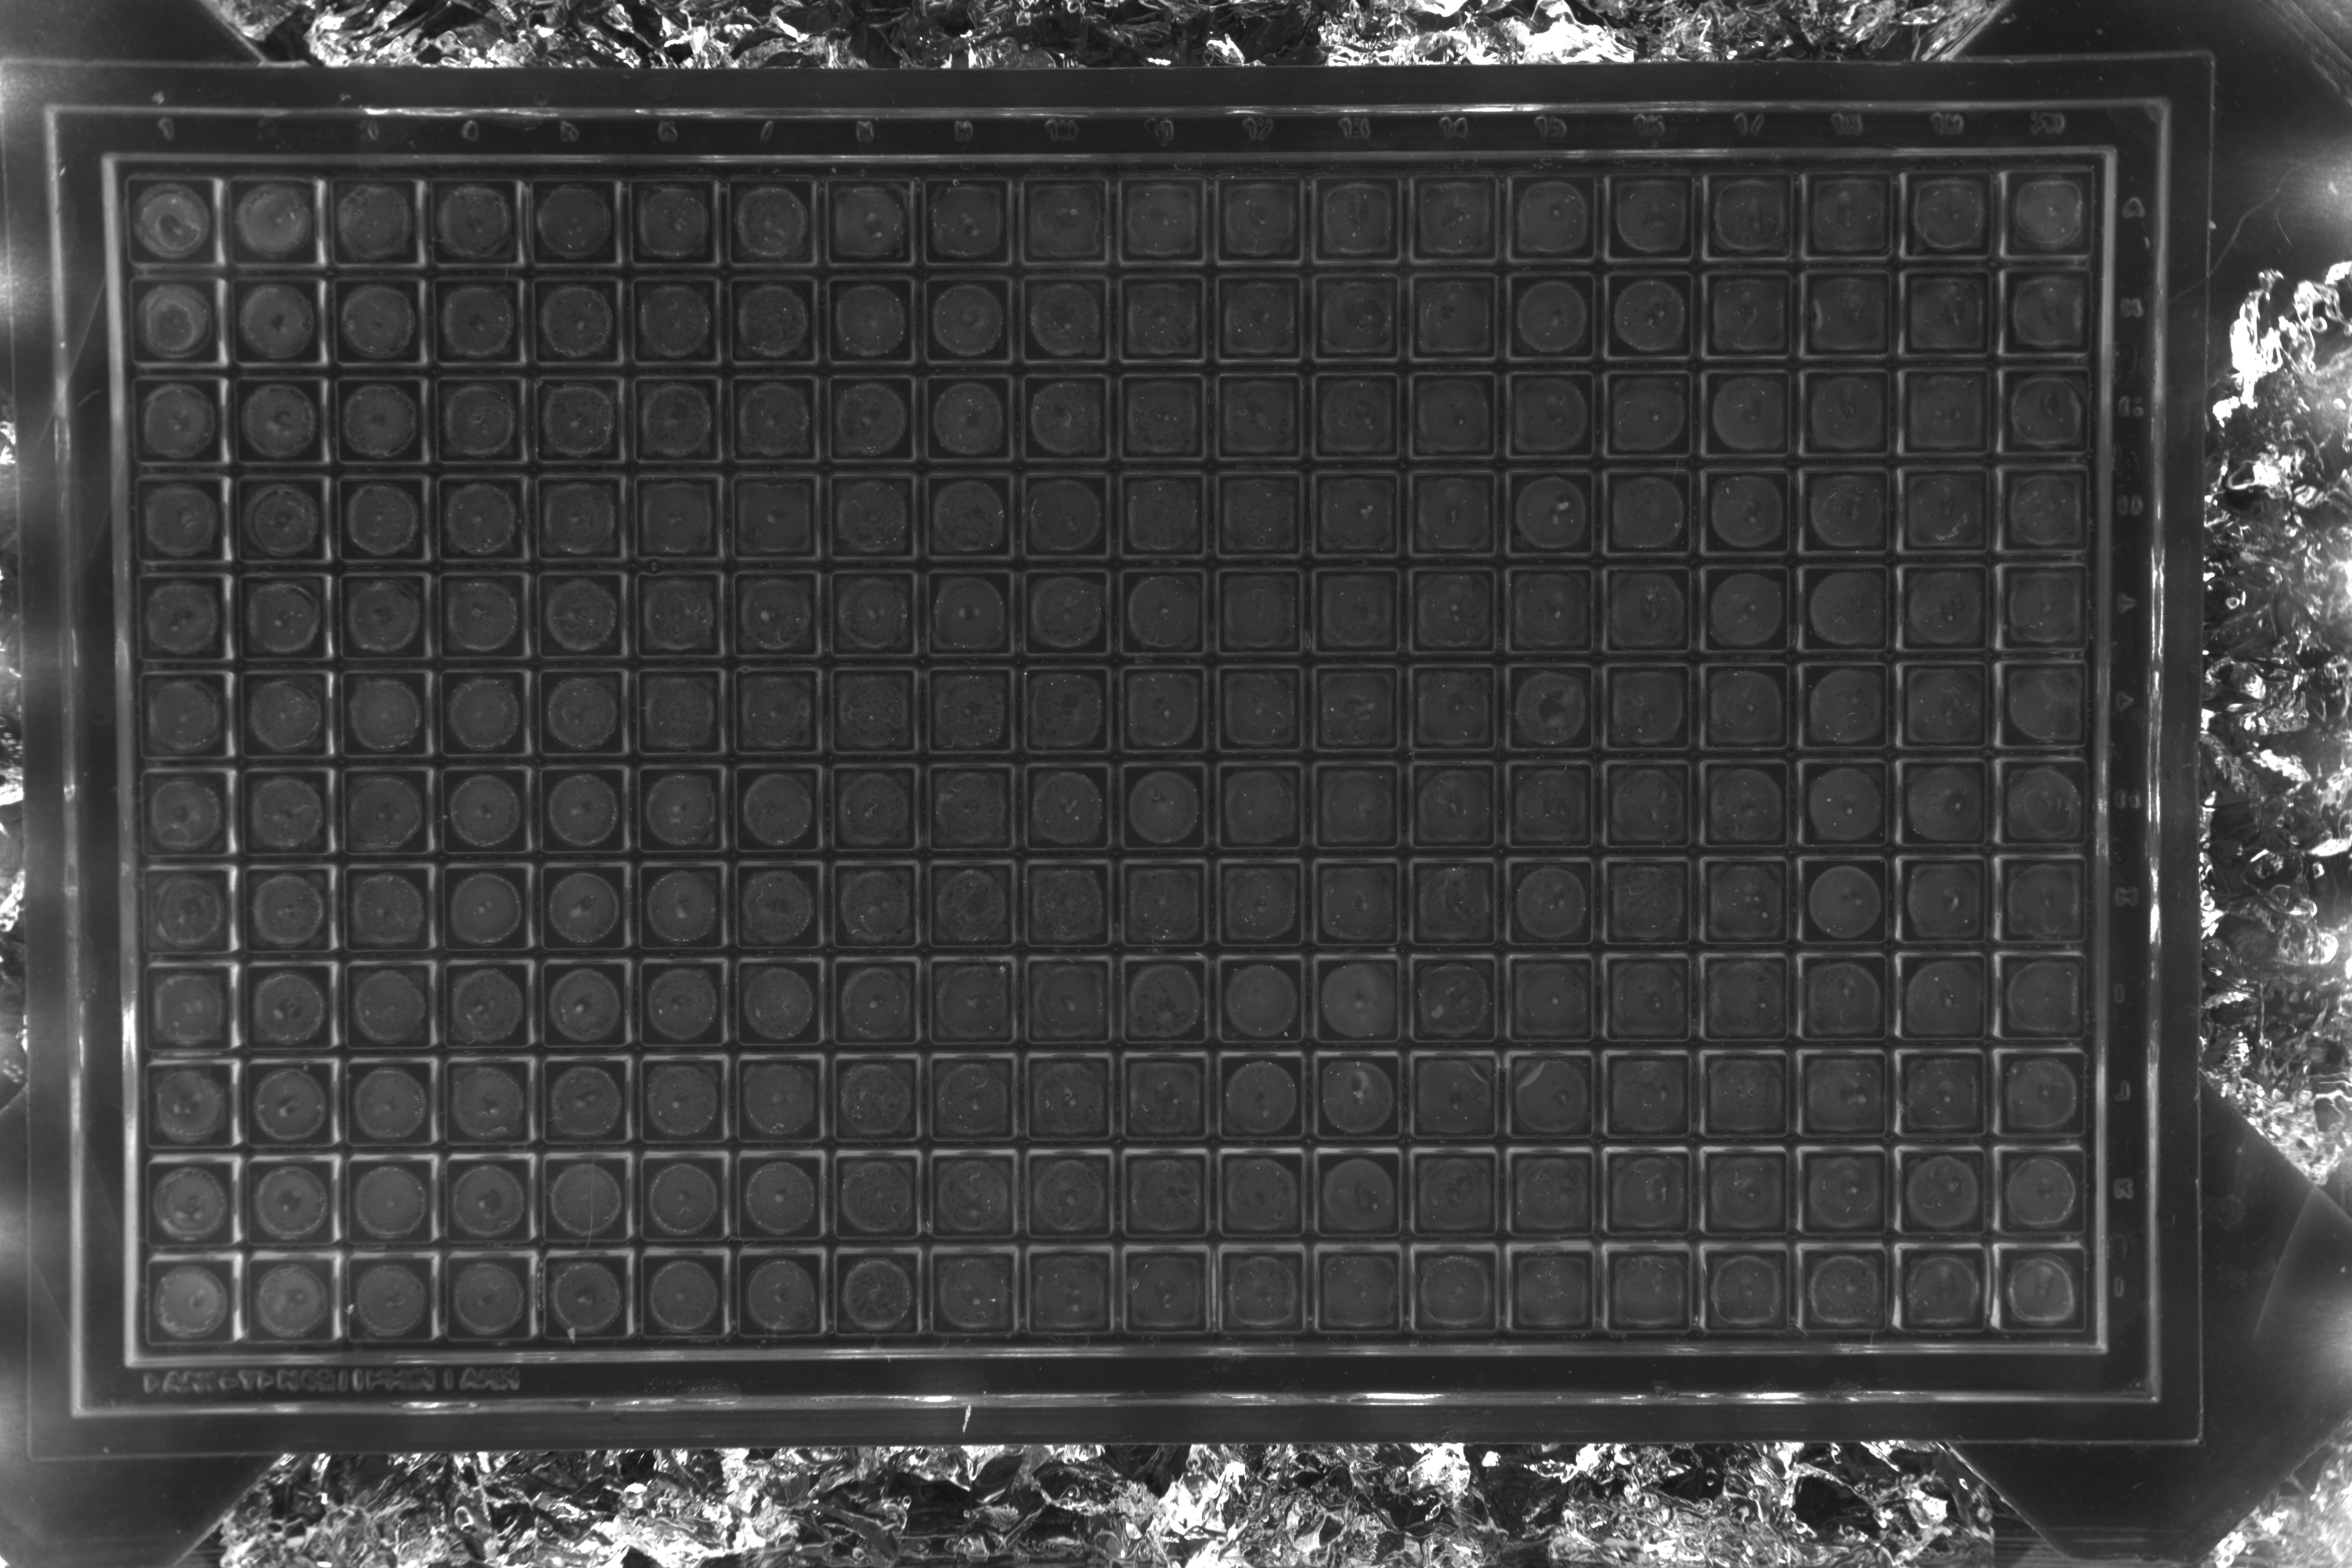WM_well: (497, 1214, 586, 1302), (789, 922, 878, 1010), (205, 1024, 292, 1111), (303, 1216, 390, 1304), (390, 238, 478, 325), (401, 926, 488, 1013), (688, 338, 775, 425), (885, 534, 973, 621), (887, 1115, 975, 1202), (1080, 1113, 1167, 1200), (1370, 630, 1458, 717), (1465, 1211, 1552, 1298), (1466, 726, 1554, 814), (1466, 822, 1554, 910), (1470, 138, 1557, 226), (1564, 628, 1652, 716), (1566, 432, 1654, 520), (1659, 1211, 1746, 1298), (1662, 726, 1750, 814), (1858, 1017, 1946, 1104), (1858, 920, 1946, 1008), (1962, 427, 2049, 514), (1965, 129, 2053, 217), (2056, 1017, 2144, 1104)
